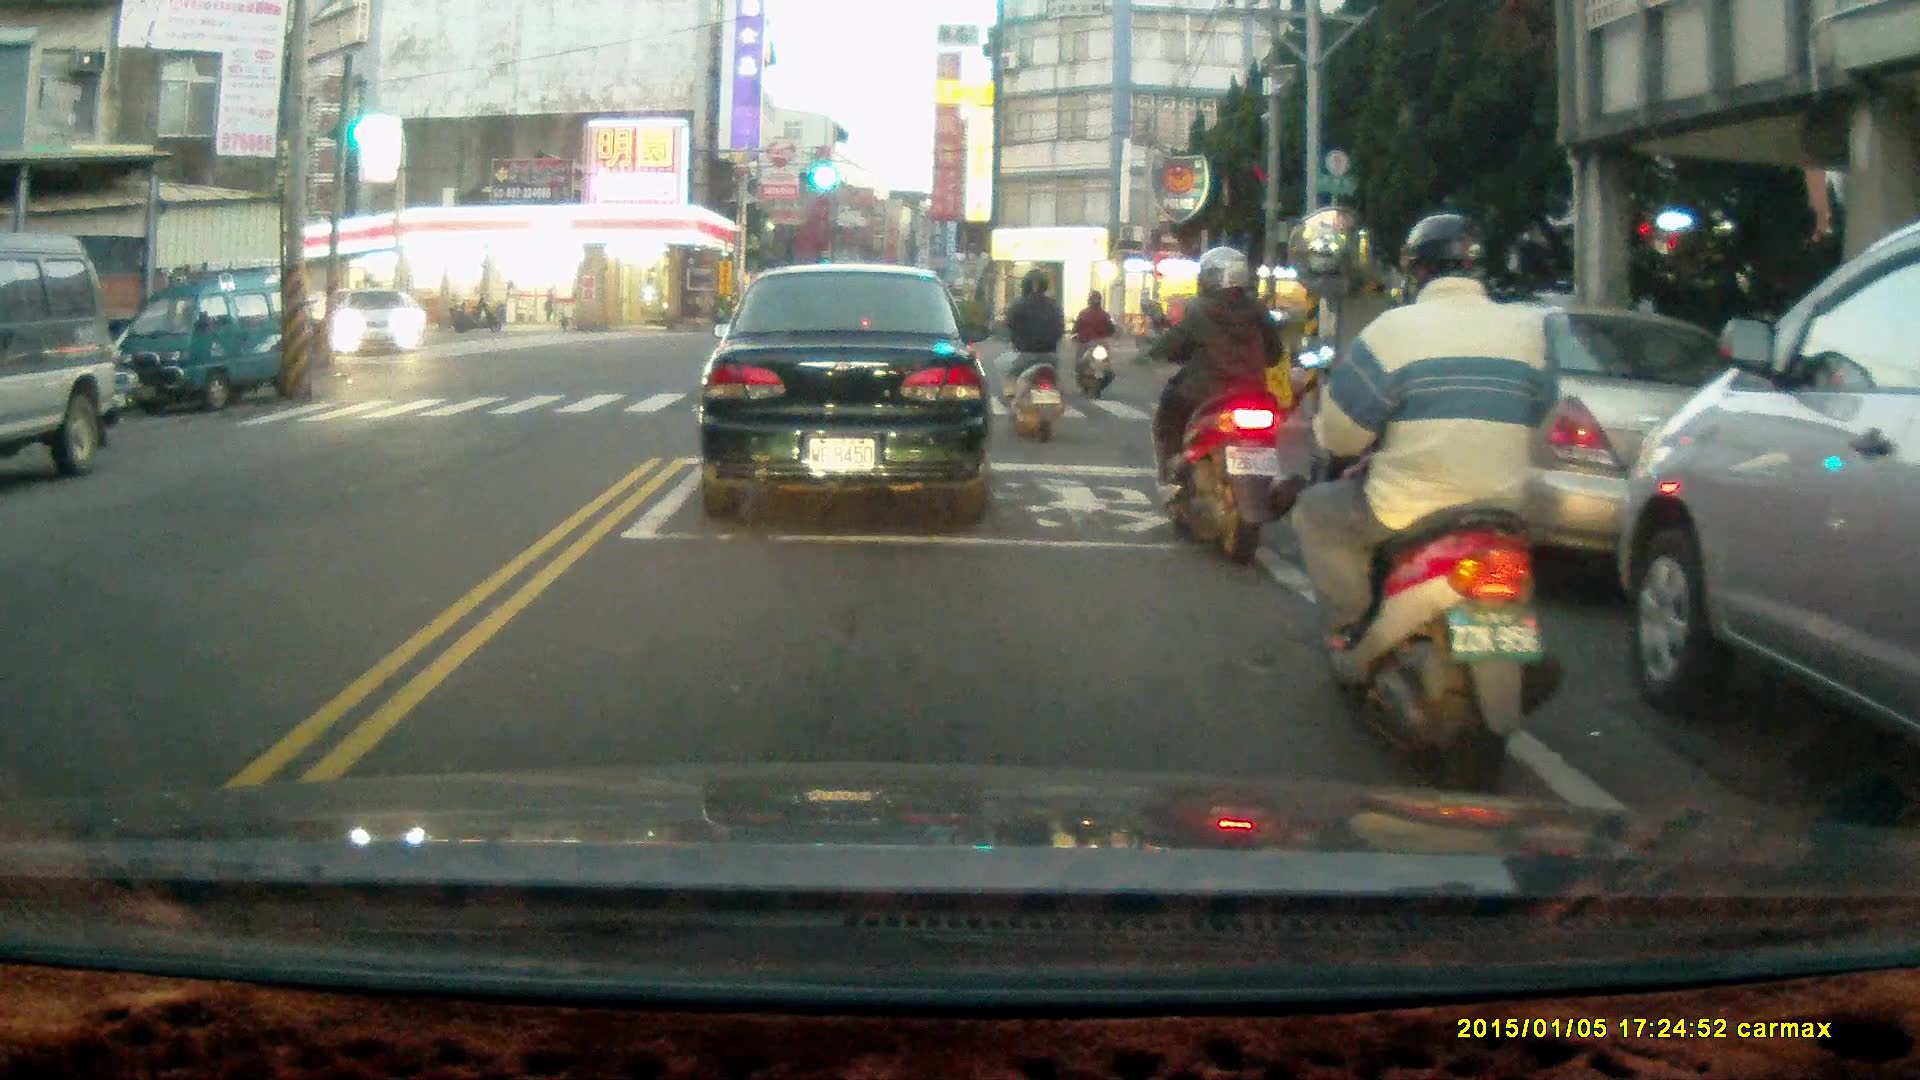rider: (1294, 213, 1565, 796), (1142, 241, 1307, 572), (995, 265, 1065, 442), (1074, 286, 1115, 400)
vehicle: (1616, 223, 1920, 769), (1390, 305, 1801, 591), (695, 259, 993, 526), (1, 234, 123, 483), (124, 263, 291, 411), (331, 289, 422, 360)
